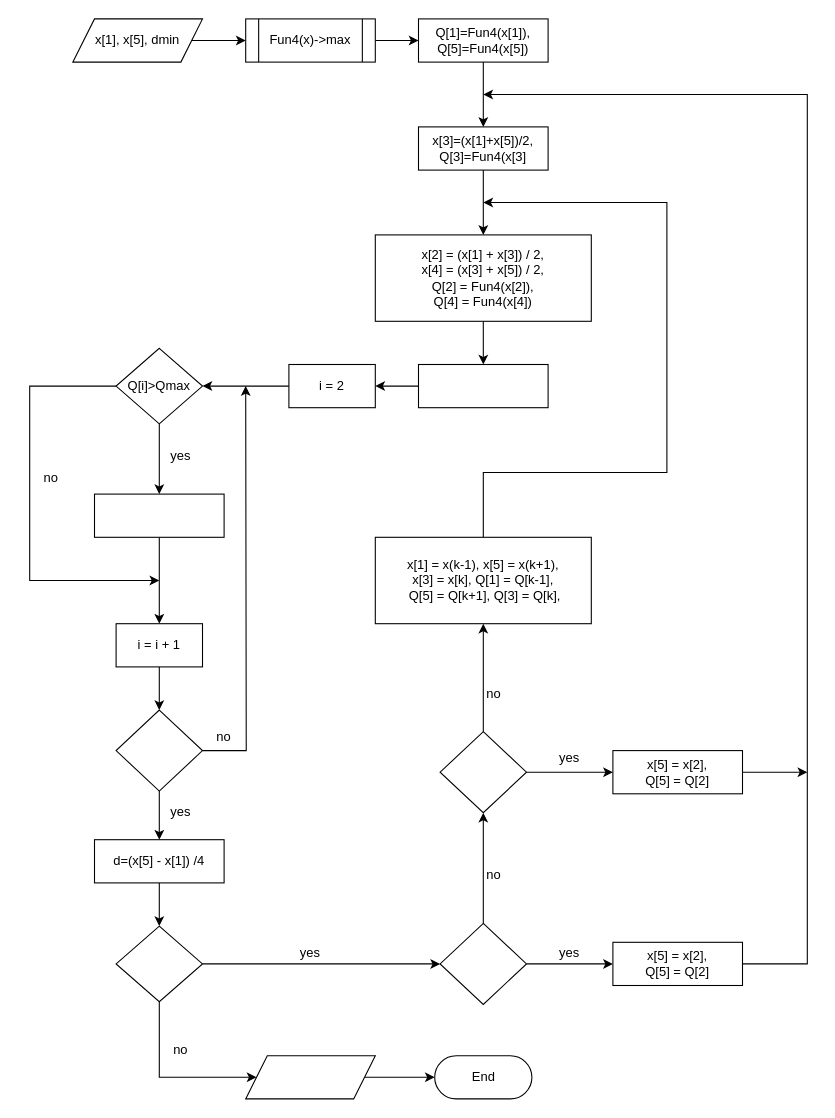
Some shapes in this 835 by 1118 pixel diagram are drawn without their labels. The shapes that lost their labels are listed below. From the top down, each one's centre as x and y in pixels, then its label:
At point 482,385: "Qmax = Q[1], xm = x[1], k = 1".
At point 158,515: "Qmax = Q[i], xm = x[i], k = i".
At point 158,750: "i > 5".
At point 482,772: "k = 5".
At point 158,963: "d > dmin".
At point 482,963: "k = 1".
At point 310,1077: "Qmax, xmax".
